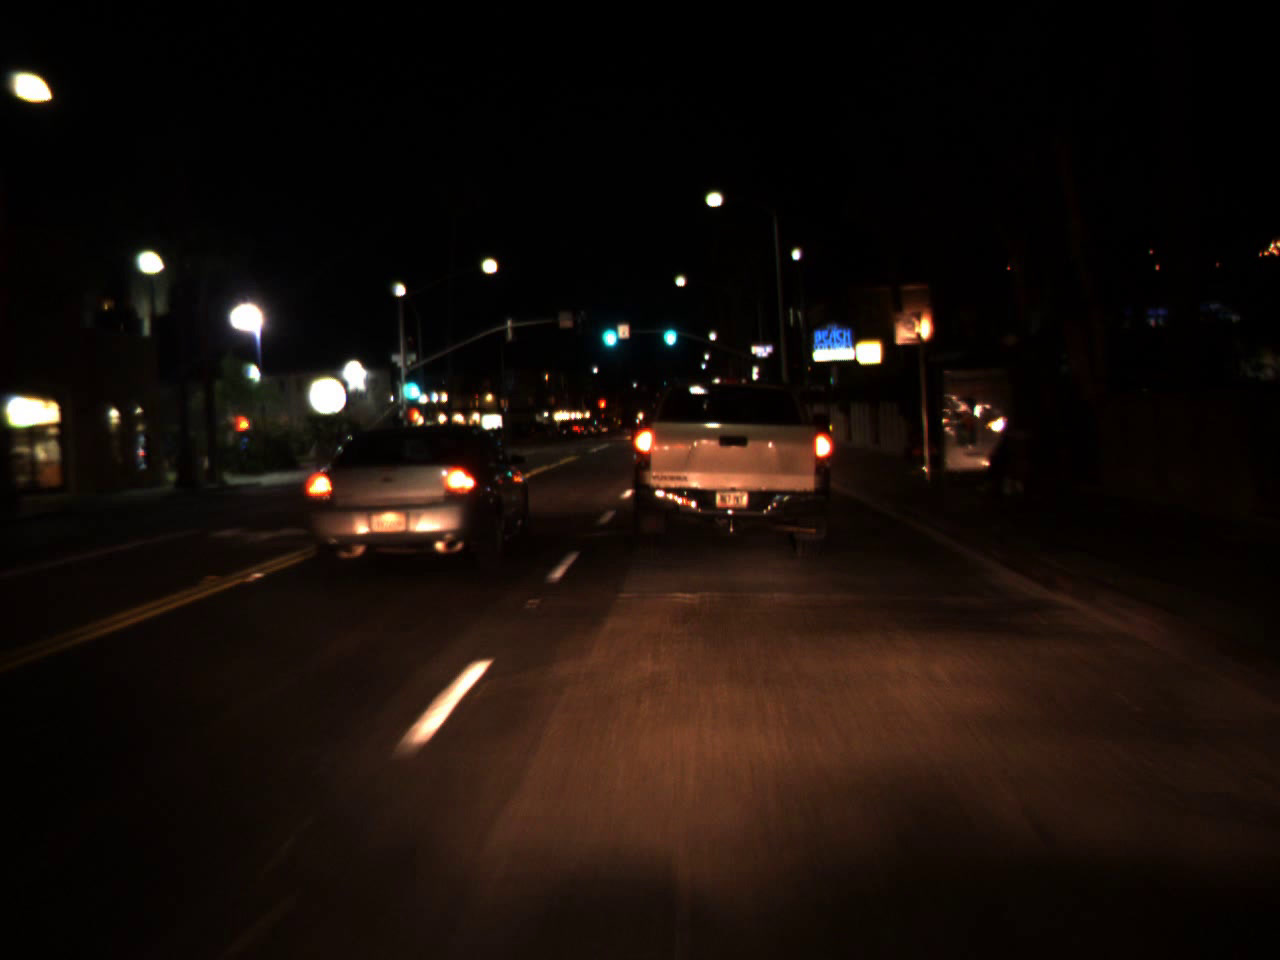go: (395, 362, 427, 407), (596, 310, 619, 352), (660, 315, 681, 351)
